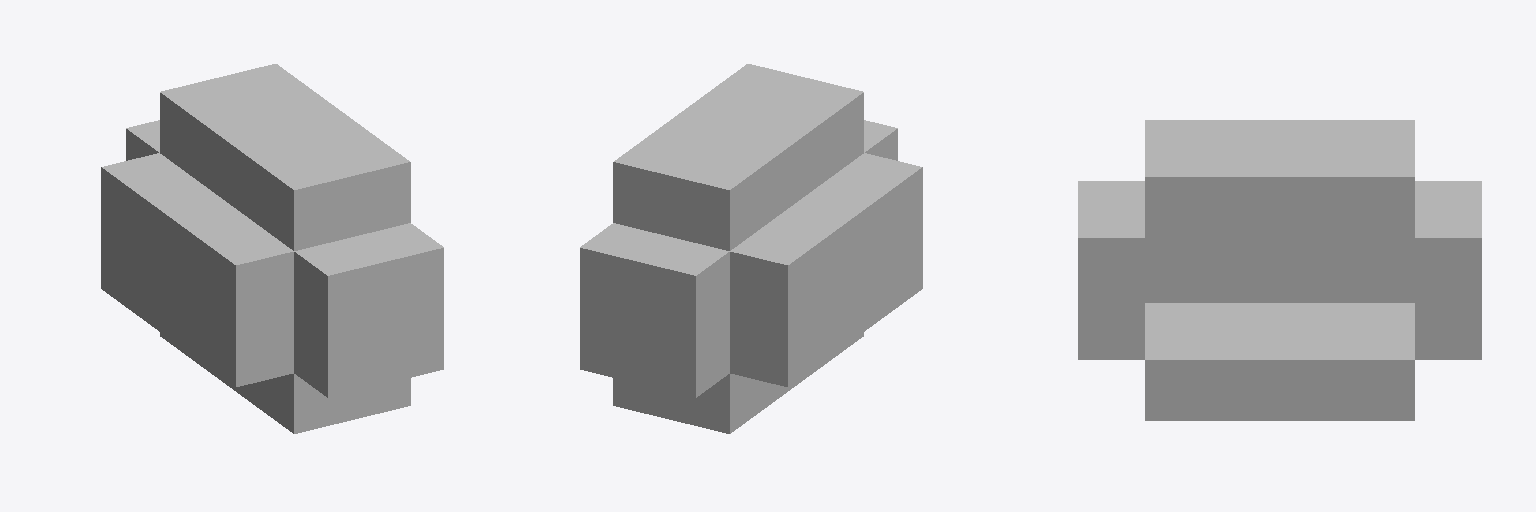
The model's file is lightweight.obj.
3 views of the same model, side by side, from view 1: azimuth 30°, elevation 25°; view 2: azimuth 150°, elevation 25°; view 3: azimuth 270°, elevation 25° (orthographic).
Parts seen in each view (by area): view 1: hammermesh-14, hammermesh-13, hammermesh-11, hammermesh-10, hammermesh-12; view 2: hammermesh-14, hammermesh-13, hammermesh-12, hammermesh-10, hammermesh-11; view 3: hammermesh-10, hammermesh-13, hammermesh-14, hammermesh-11, hammermesh-12.
Boxes of the visible parts, <box> form: hammermesh-14: <box>101,153,293,386</box>; hammermesh-13: <box>160,64,410,250</box>; hammermesh-11: <box>294,223,443,397</box>; hammermesh-10: <box>160,332,410,433</box>; hammermesh-12: <box>126,120,159,160</box>; hammermesh-14: <box>730,153,922,386</box>; hammermesh-13: <box>613,64,863,250</box>; hammermesh-12: <box>580,223,729,397</box>; hammermesh-10: <box>613,332,863,433</box>; hammermesh-11: <box>864,120,897,160</box>; hammermesh-10: <box>1145,303,1414,420</box>; hammermesh-13: <box>1145,120,1414,237</box>; hammermesh-14: <box>1145,238,1414,302</box>; hammermesh-11: <box>1078,181,1144,359</box>; hammermesh-12: <box>1415,181,1481,359</box>.
Bounding box in the file's own units: 384 × 512 × 768.